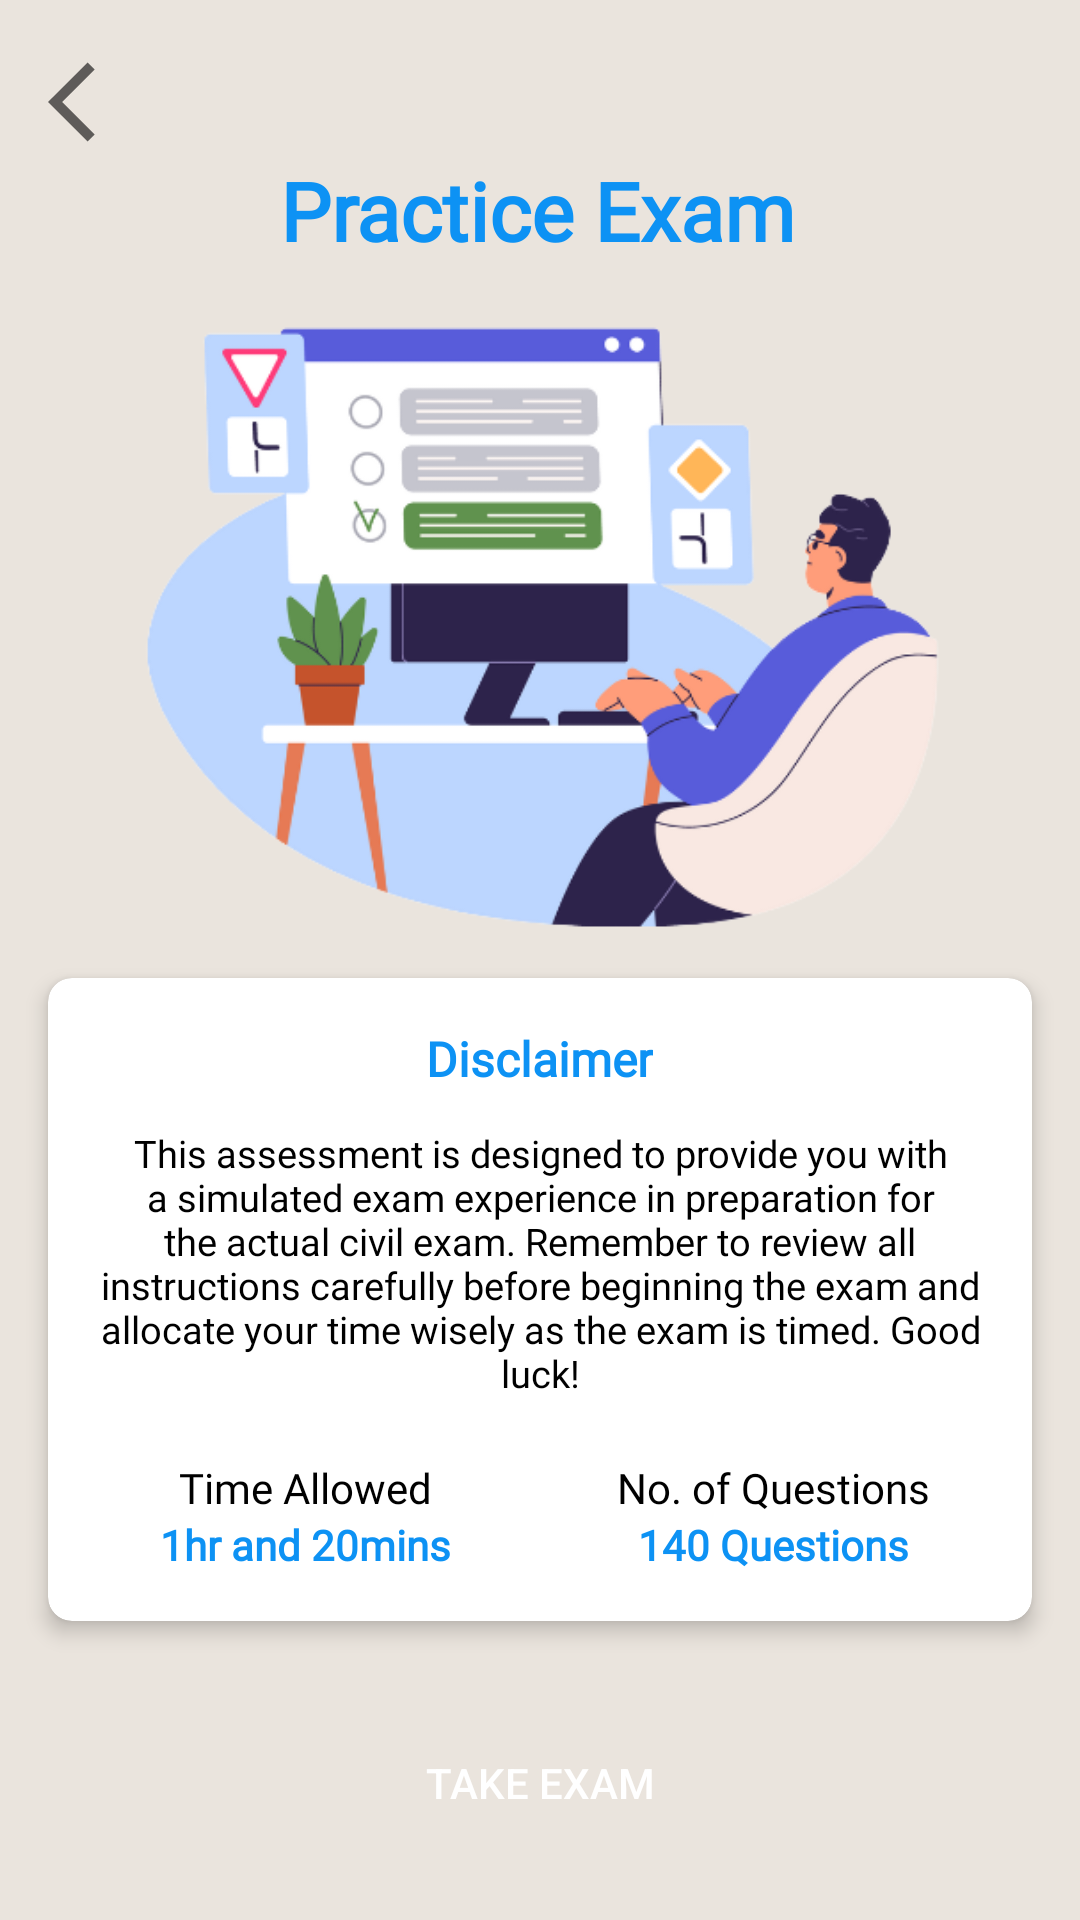

Screen size 1080px x 1920px. Icon name, then its box in pixels as Rect(x1, y1, x2, y2):
arrow back: Rect(48, 62, 95, 142)
